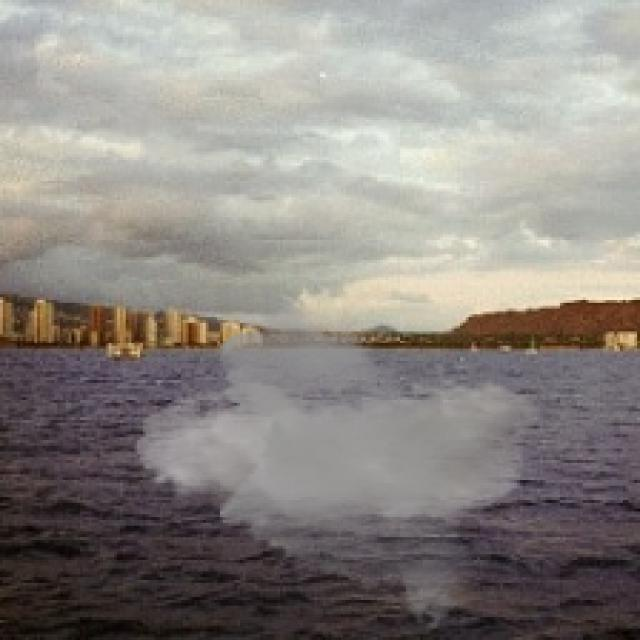smoke: (134, 288, 543, 632)
